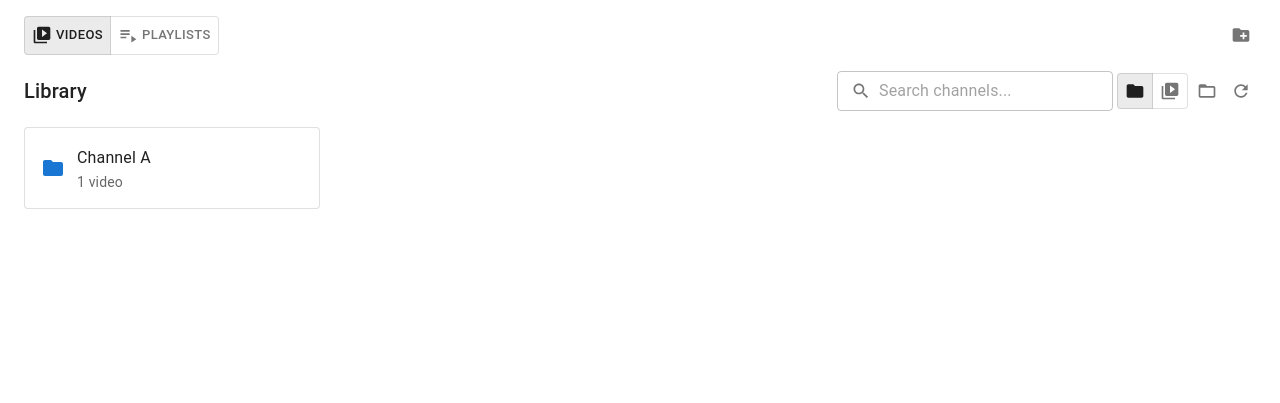
Test: LibraryScreen › shows a "N clips" badge on a video card only when it has saved clips
This screenshot has width=1280, height=403.
Click the heading "Channel A": (114, 158) [77,144,151,172]
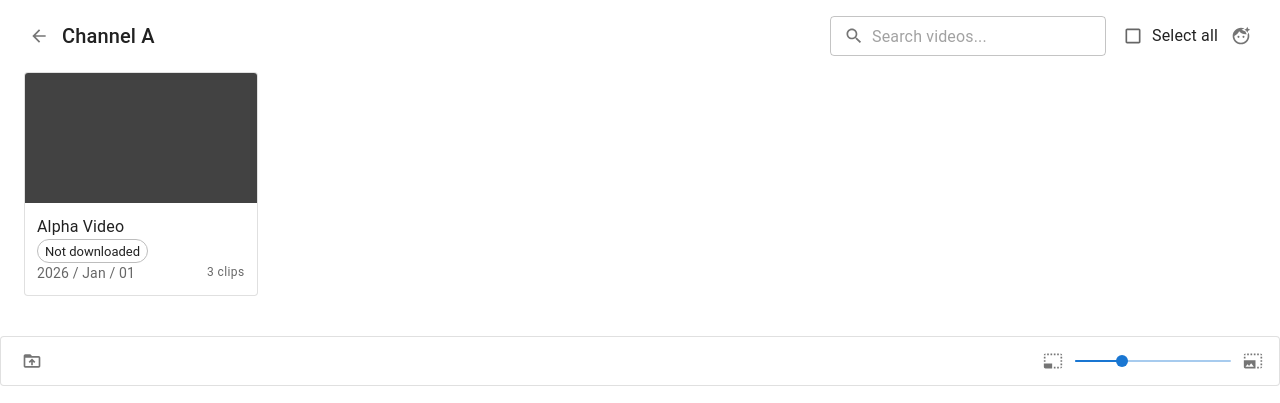
Expected: the text "3 clips" is shown, [207,263,245,283]
